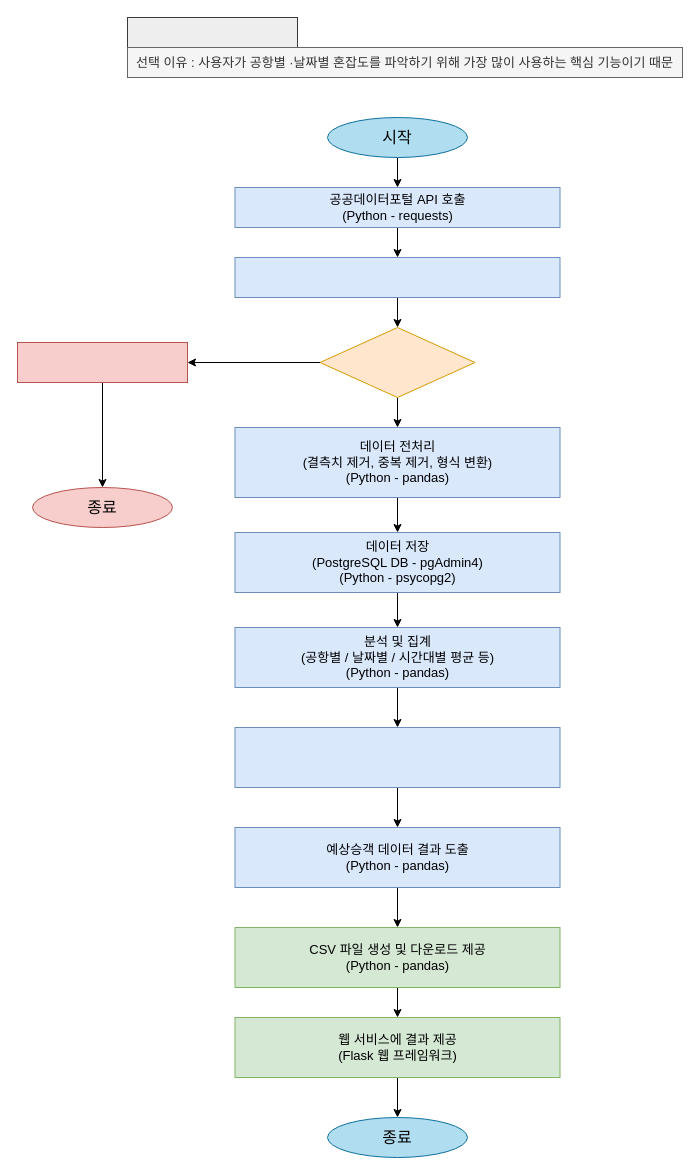
Some shapes in this 700 by 1175 pixel diagram are drawn without their labels. Here are the shapes that lost their labels. From the top down, the box of each, then its label:
(126, 16, 298, 48): 선택 기능 명 : 예상승객 조회
(234, 256, 560, 298): 응답 데이터 수신 (JSON) (Python - requests)
(16, 342, 188, 382): 오류 처리 (Python - logging)
(319, 326, 475, 398): 응답 상태 200 OK?
(234, 726, 560, 788): 시각화 생성 (matplotlib / seaborn) (Python)
